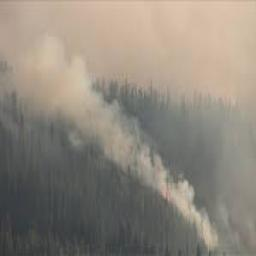Heavy smoke: (0, 0, 255, 253)
